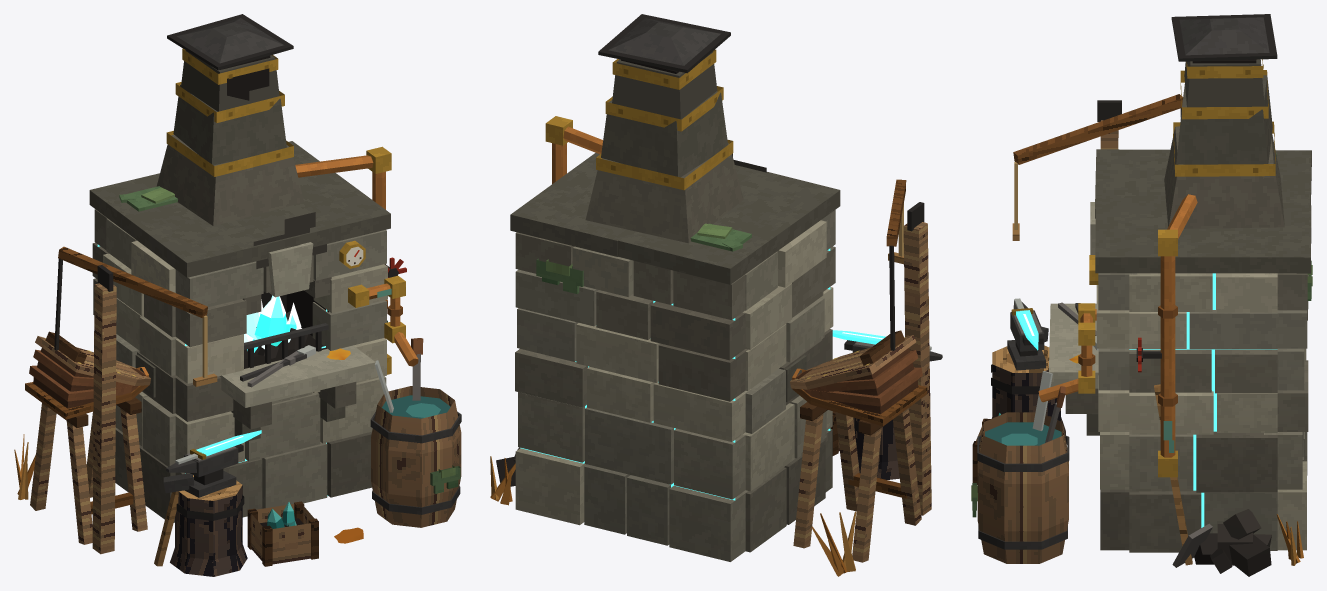
Rendered from op_forge.glb.
The picture shows the model from 3 angles, left to right: view 1: azimuth 30°, elevation 25°; view 2: azimuth 150°, elevation 25°; view 3: azimuth 270°, elevation 25°; orthographic projection. The views are drawn at different scales.
Visible parts, largest first — view 1: op_forge, glow_core, glow_blade; view 2: op_forge; view 3: op_forge, glow_seams, glow_blade.
Boxes of the visible parts, x1,y1,x2,y2 form: op_forge: [14, 14, 461, 576]; glow_core: [244, 295, 301, 352]; glow_blade: [196, 430, 261, 456]; op_forge: [490, 14, 942, 576]; op_forge: [971, 14, 1312, 576]; glow_seams: [1129, 273, 1277, 527]; glow_blade: [1016, 310, 1038, 350].
Bounding box in the file's own units: 2.46 × 3 × 1.93.
60 materials, 24 textured.
